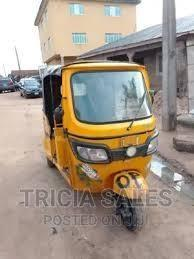keke: (38, 62, 165, 243)
